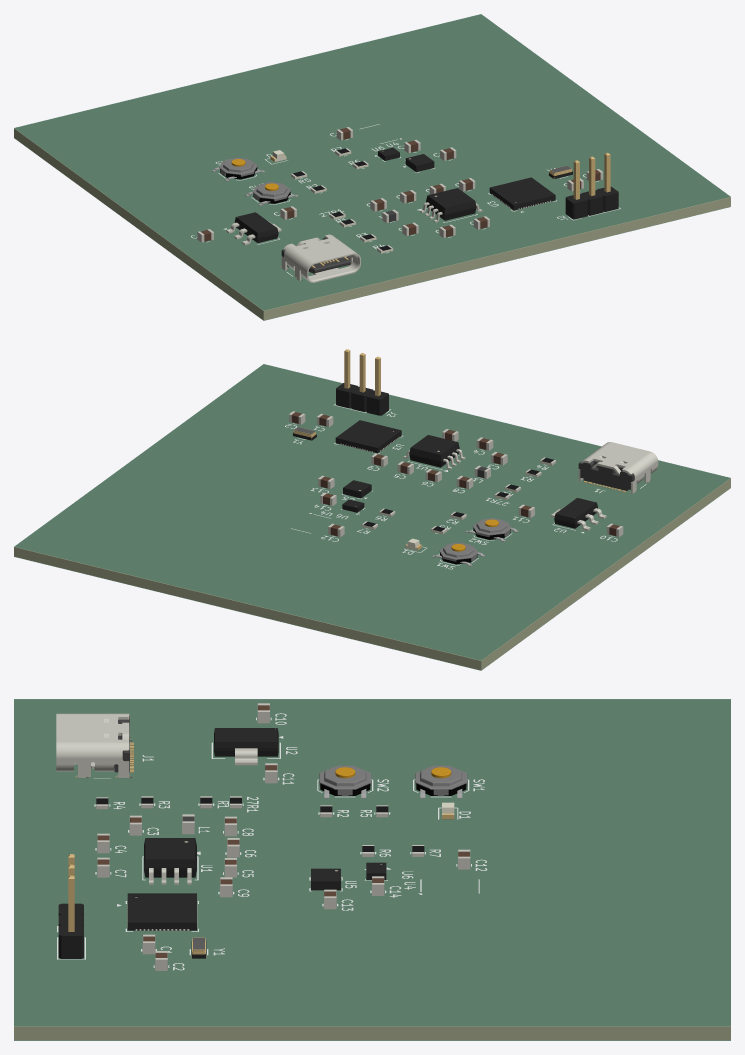
Rendered from ghostmedic-sensor-hub.glb.
The picture shows the model from 3 angles, top to bottom: view 1: azimuth 30°, elevation 25°; view 2: azimuth 150°, elevation 25°; view 3: azimuth 270°, elevation 25°; orthographic projection. The views are drawn at different scales.
Parts seen in each view (by area): view 1: =>[0:1:1:31], =>[0:1:1:29], =>[0:1:1:23], =>[0:1:1:25], =>[0:1:1:19] (×2), =>[0:1:1:5], =>[0:1:1:9], =>[0:1:1:27], =>[0:1:1:28], =>[0:1:1:30]; view 2: =>[0:1:1:31], =>[0:1:1:29], =>[0:1:1:23], =>[0:1:1:25], =>[0:1:1:19] (×2), =>[0:1:1:28], =>[0:1:1:5], =>[0:1:1:9], =>[0:1:1:27], =>[0:1:1:30]; view 3: =>[0:1:1:31], =>[0:1:1:29], =>[0:1:1:23], =>[0:1:1:28], =>[0:1:1:19] (×2), =>[0:1:1:5], =>[0:1:1:9], =>[0:1:1:27], =>[0:1:1:25], =>[0:1:1:30], =>[0:1:1:11].
Boxes of the visible parts, x1,y1,x2,y2 form: =>[0:1:1:31]: (14,15,730,320); =>[0:1:1:29]: (14,14,730,310); =>[0:1:1:23]: (281,234,360,282); =>[0:1:1:25]: (565,152,618,219); =>[0:1:1:19] (×2): (212,157,298,205); =>[0:1:1:5]: (489,177,555,210); =>[0:1:1:9]: (420,188,482,222); =>[0:1:1:27]: (226,212,281,245); =>[0:1:1:28]: (191,124,620,276); =>[0:1:1:30]: (14,138,729,320); =>[0:1:1:31]: (14,365,730,670); =>[0:1:1:29]: (14,364,730,660); =>[0:1:1:23]: (578,442,658,493); =>[0:1:1:25]: (336,349,388,415); =>[0:1:1:19] (×2): (432,518,518,566); =>[0:1:1:28]: (285,403,646,569); =>[0:1:1:5]: (335,420,401,453); =>[0:1:1:9]: (403,435,465,469); =>[0:1:1:27]: (551,498,606,530); =>[0:1:1:30]: (14,488,730,670); =>[0:1:1:31]: (14,700,730,1040); =>[0:1:1:29]: (14,699,730,1026); =>[0:1:1:23]: (56,713,133,777); =>[0:1:1:28]: (57,713,487,970); =>[0:1:1:19] (×2): (319,765,467,798); =>[0:1:1:5]: (127,893,197,930); =>[0:1:1:9]: (144,838,196,884); =>[0:1:1:27]: (214,728,278,765); =>[0:1:1:25]: (58,854,83,958); =>[0:1:1:30]: (14,1040,730,1040); =>[0:1:1:11]: (311,868,340,890).
Size of the model in its own units: 0.0775 by 0.0115 by 0.0717.
